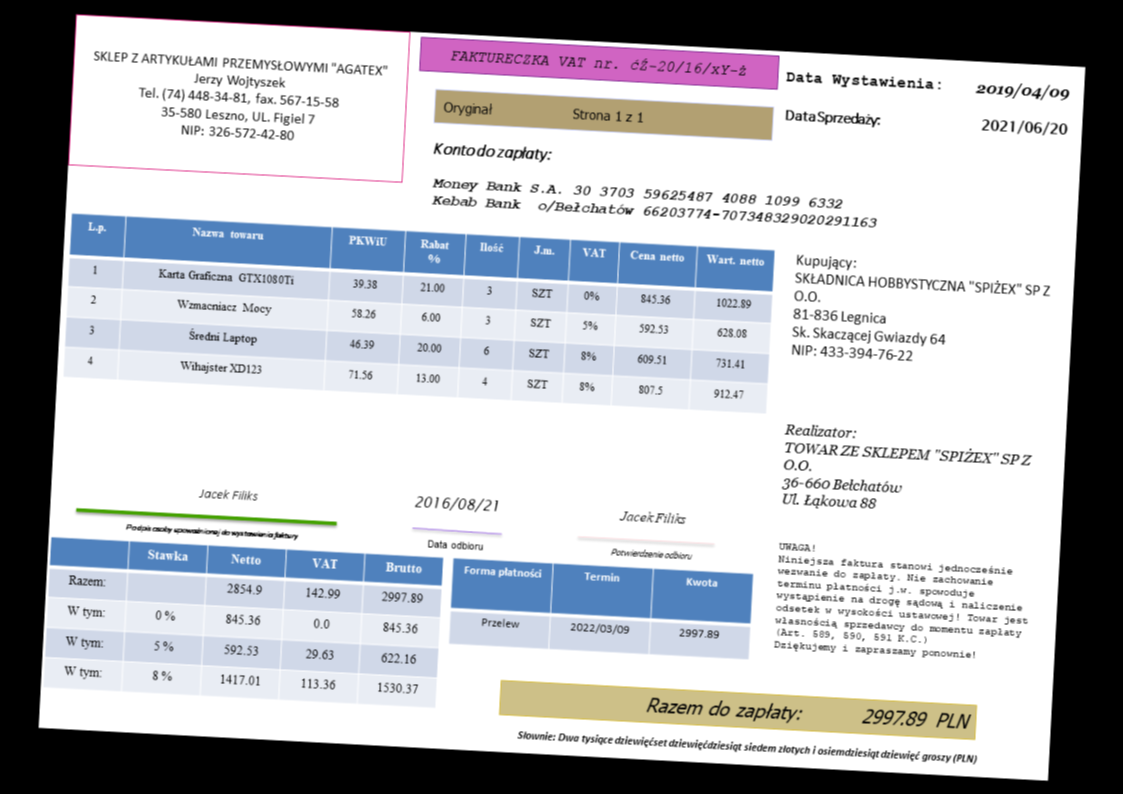Table: (61, 210, 777, 415), (41, 534, 445, 709), (446, 554, 755, 660)
TextBox: (786, 249, 1057, 374), (769, 538, 1034, 665), (85, 44, 390, 149), (777, 419, 1036, 522), (428, 173, 880, 232), (513, 725, 981, 769), (642, 691, 973, 734), (447, 46, 750, 79), (440, 96, 647, 128), (122, 518, 300, 545), (782, 66, 943, 93), (428, 136, 555, 166), (780, 104, 883, 131), (409, 490, 501, 517), (971, 80, 1073, 104), (979, 114, 1068, 140), (606, 544, 696, 564), (615, 504, 689, 528), (195, 483, 262, 505), (424, 536, 485, 552)
